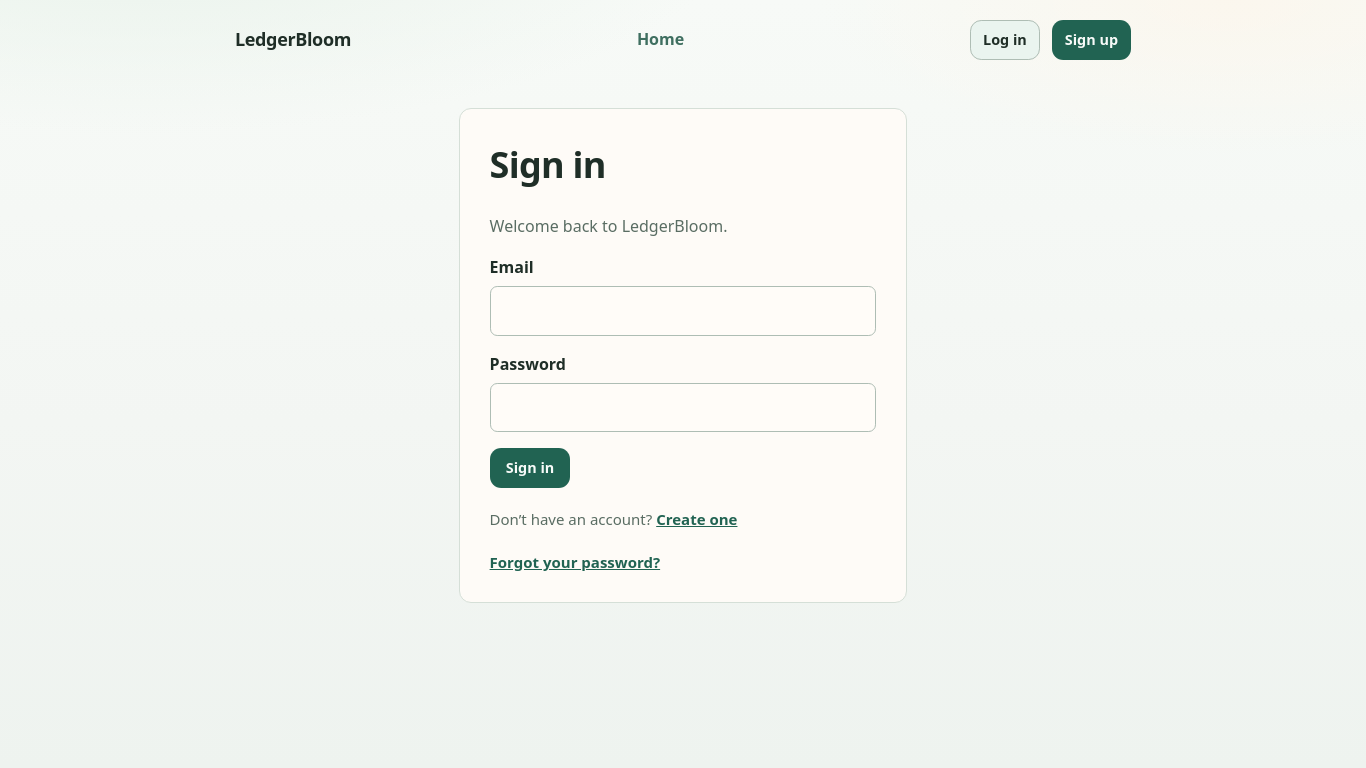
Auth routes › shows an error banner when login fails with invalid credentials
Type "user@example.com" into the field labelled "Email". click: (683, 311)
box: [490,286,876,336]
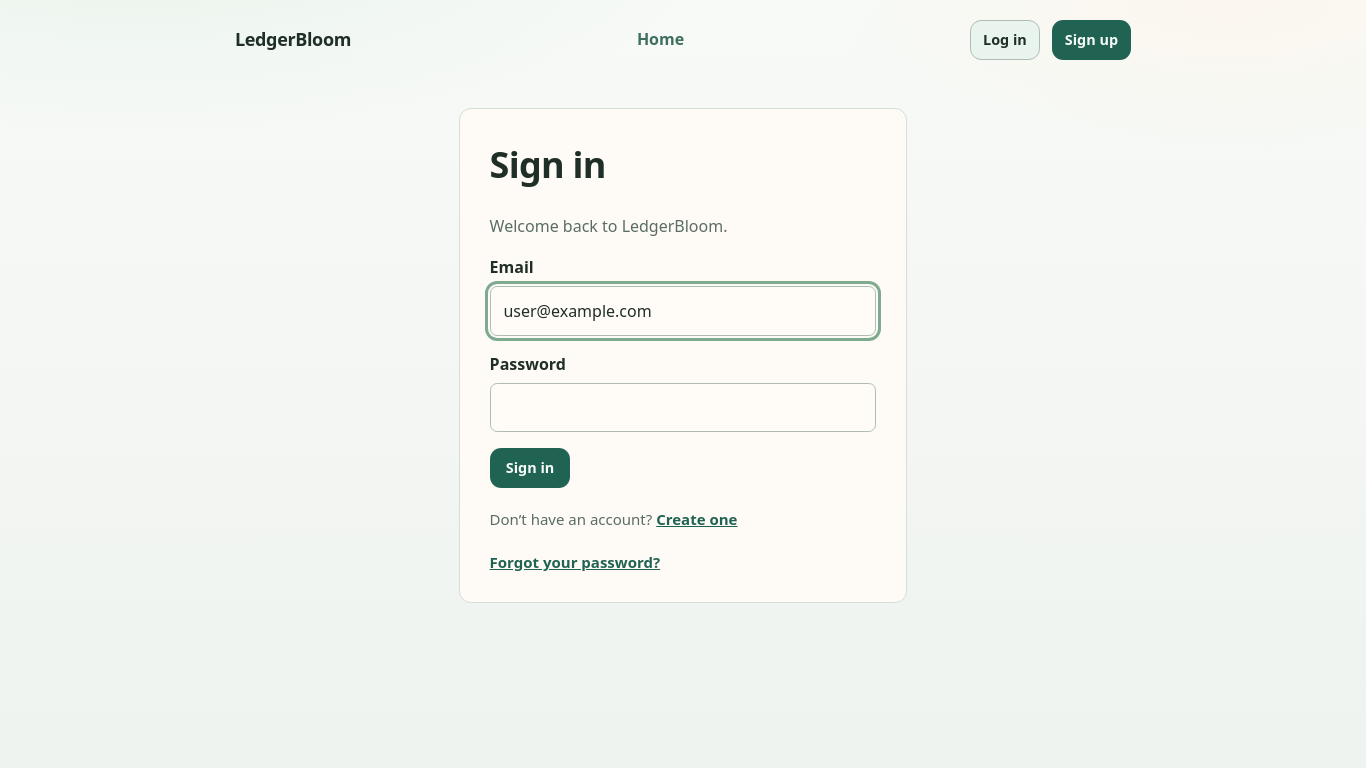
Type "wrongpassword" into the password field labelled "Password". click: (683, 407)
box: [490,383,876,432]
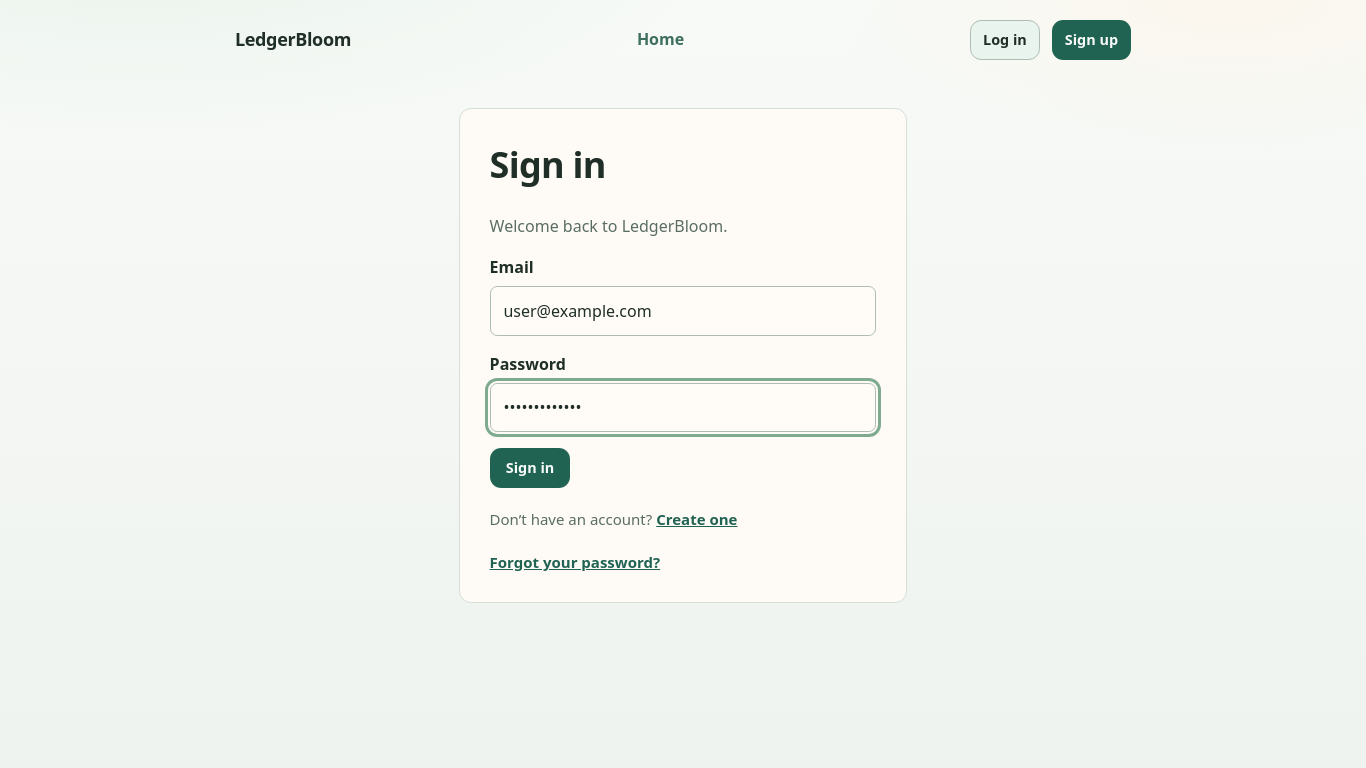
Click the button "Sign in". click: click(530, 468)
box: [490,448,570,488]
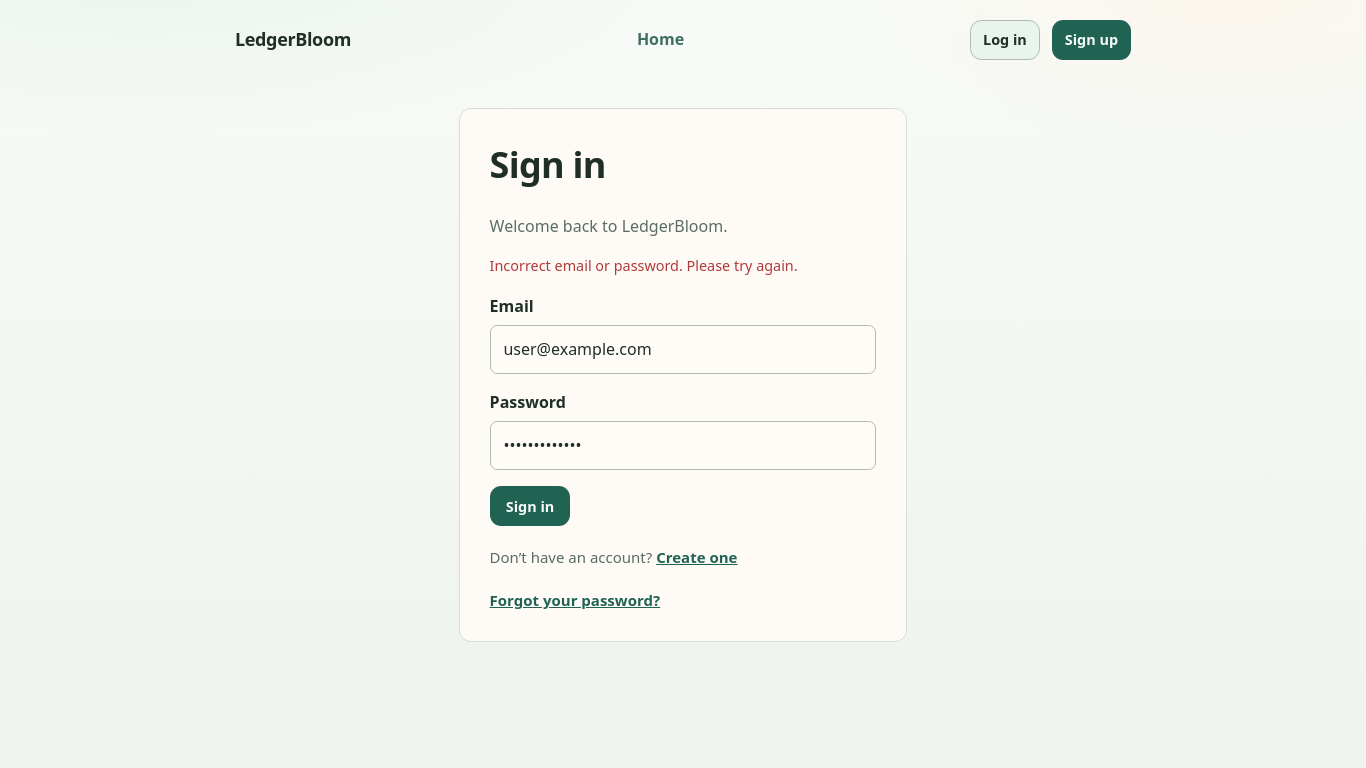
Now the text "Incorrect email or password. Please try again." is shown, box [490,256,798,275]
